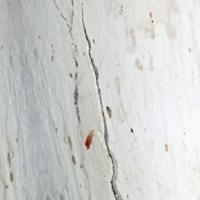crack: (65, 0, 145, 199)
